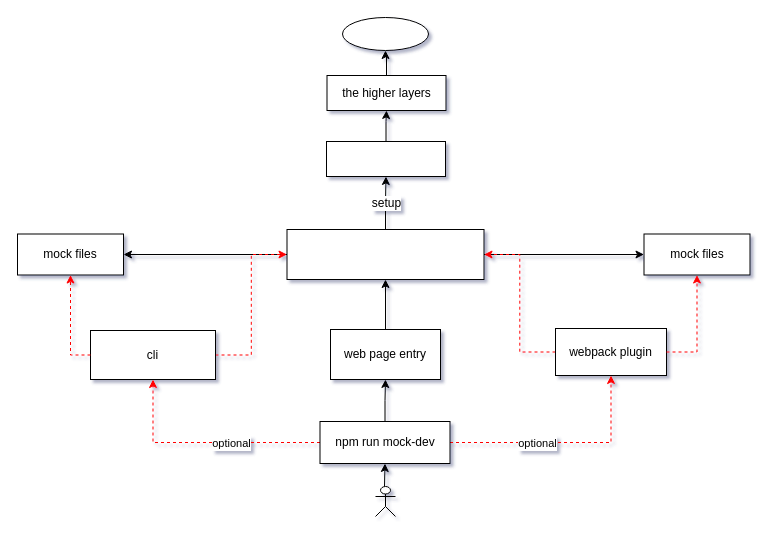
Image size: 774x540. Some labels were removed from this diagram. Here are the shapes that lost their labels. From the top down, the centre of each, then its label:
pixel 385 33: end
pixel 386 158: mocker
pixel 385 254: runtime mock configuration entry
